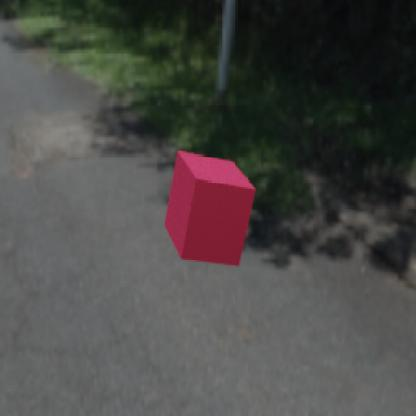cube: (163, 149, 257, 267)
